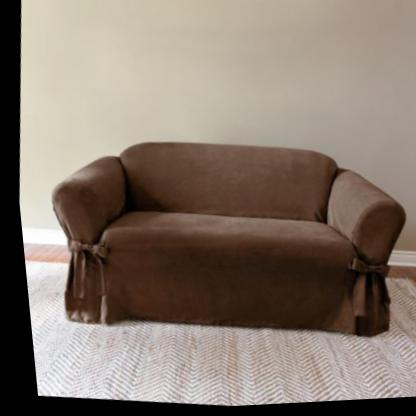Sofa: (29, 121, 416, 357)
